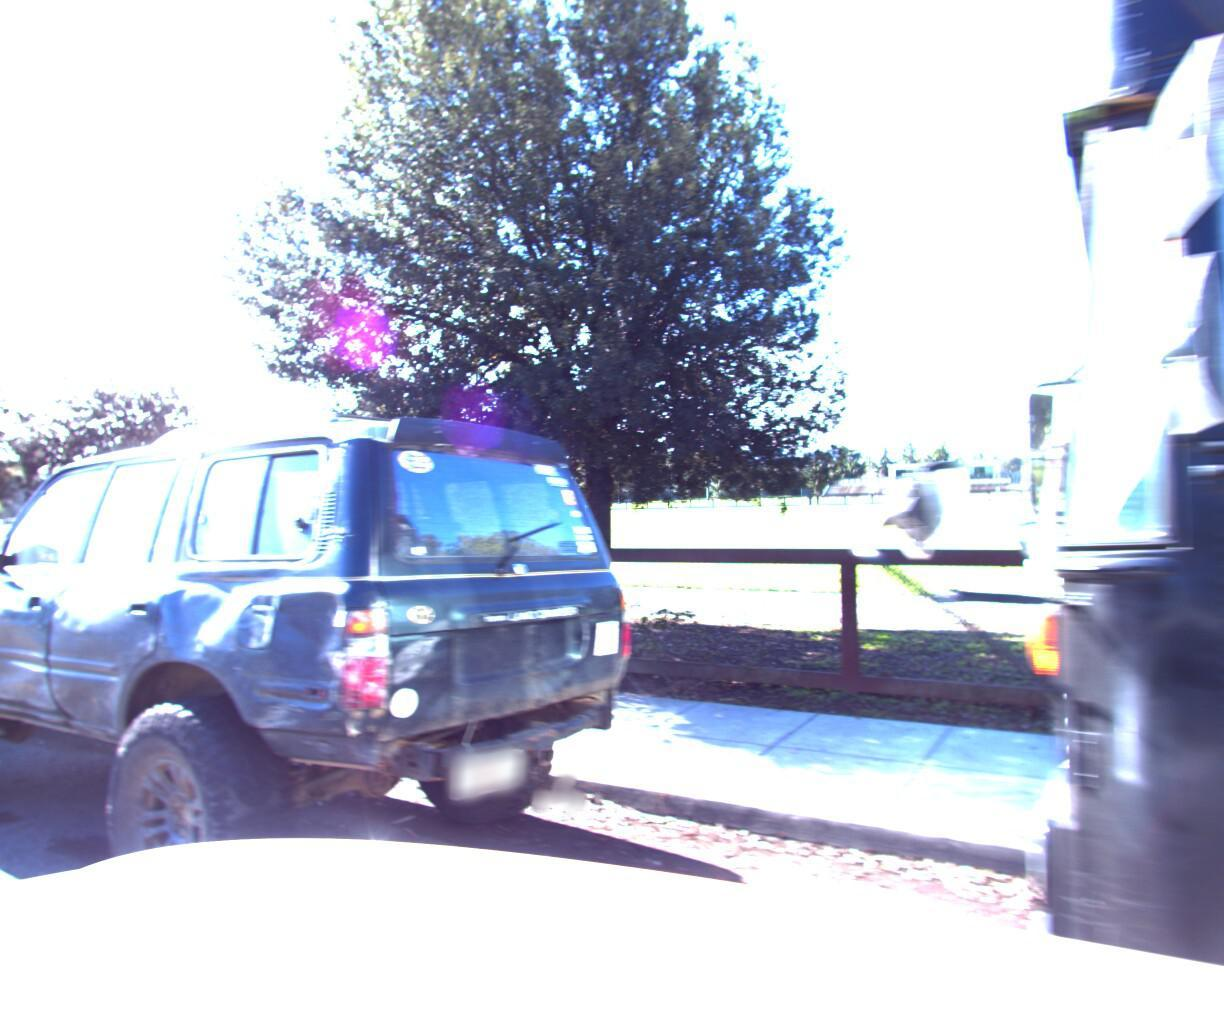car: (0, 378, 662, 1024), (0, 481, 87, 786)
